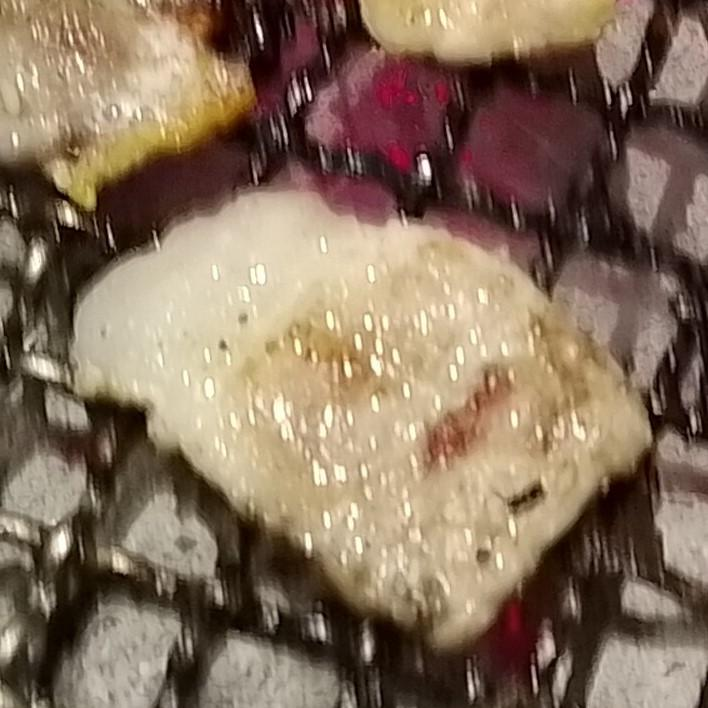Undercooked: (70, 187, 654, 658)
